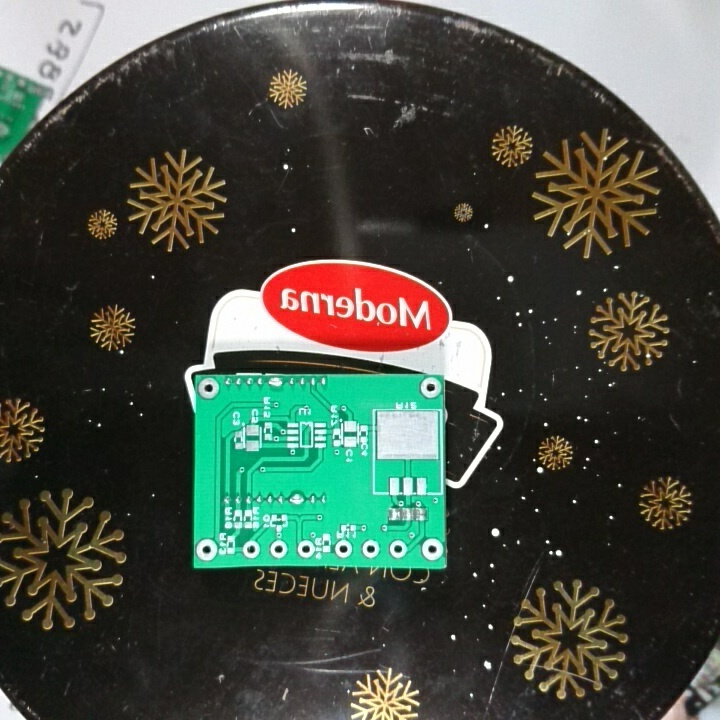F: (419, 537, 445, 563), (197, 375, 222, 401), (195, 536, 218, 563), (240, 538, 264, 563), (419, 375, 442, 401), (385, 536, 409, 560), (296, 536, 316, 562), (359, 538, 380, 560), (333, 538, 354, 559), (268, 539, 288, 559)
P: (287, 490, 306, 508), (266, 376, 285, 391)
